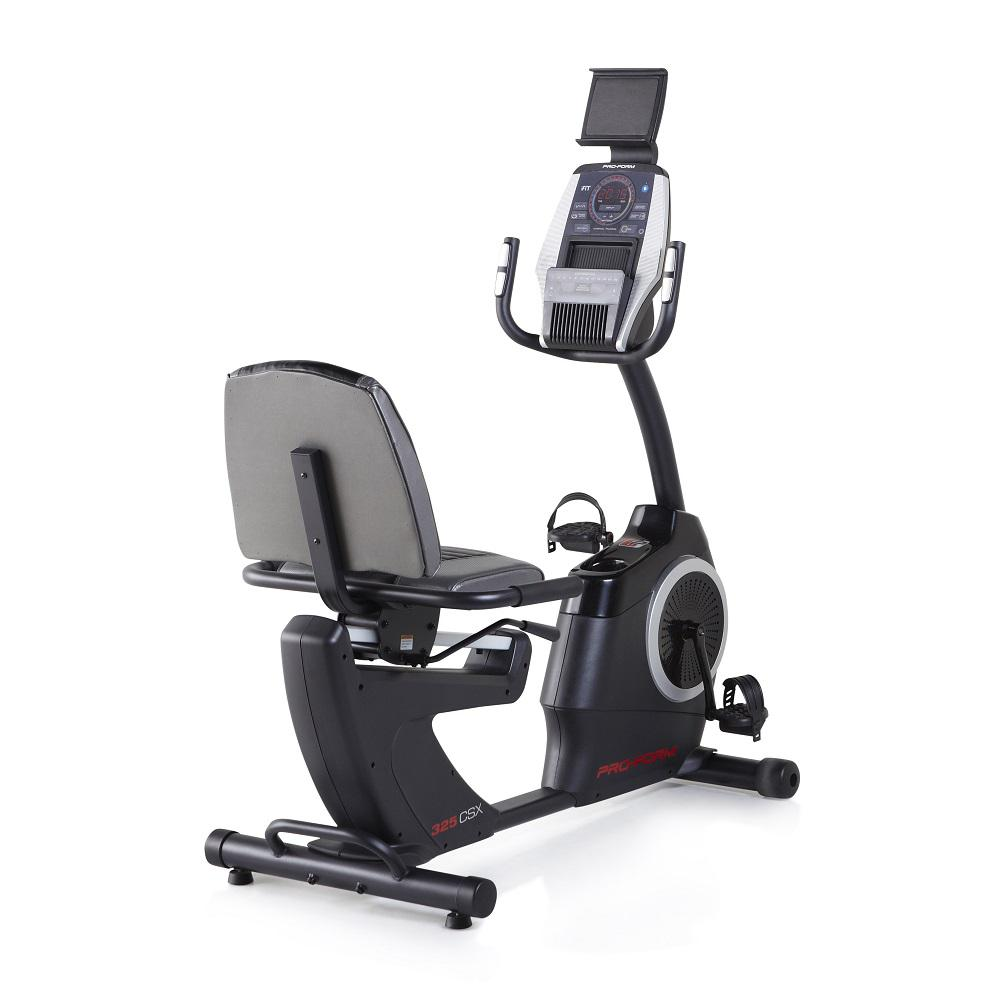gym_bike: (153, 61, 822, 944)
